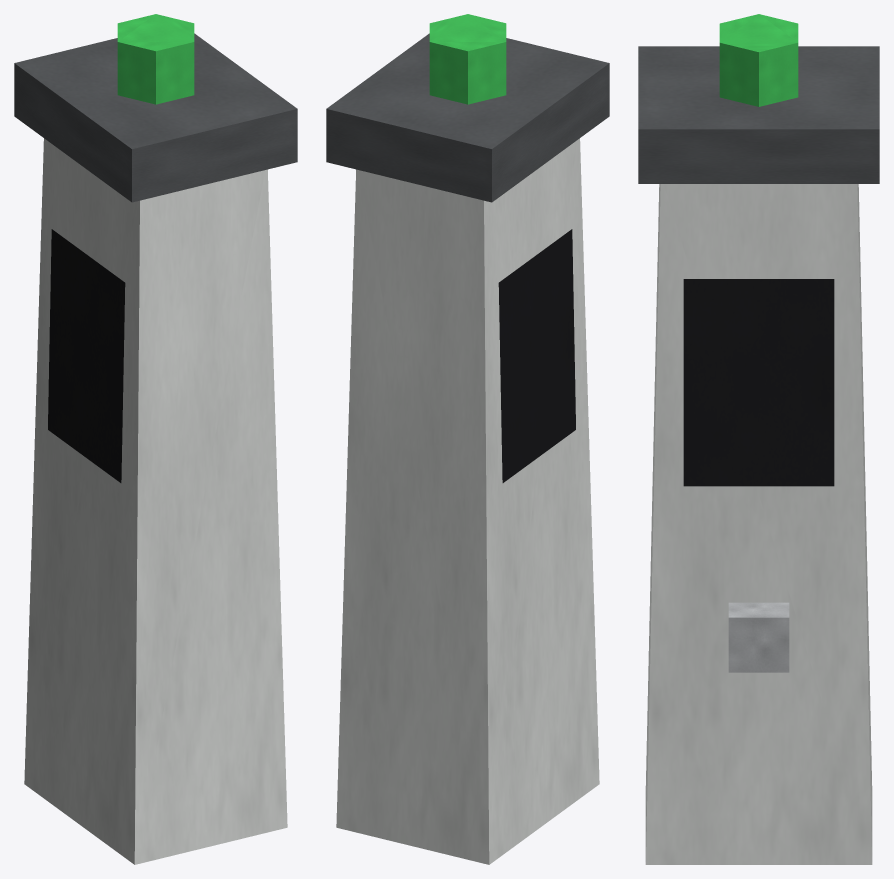
File: SM_Morin_Marina_Colonnina_LOD1.fbx
3 views of the same model, side by side, from view 1: azimuth 30°, elevation 25°; view 2: azimuth 150°, elevation 25°; view 3: azimuth 270°, elevation 25° (orthographic). The views are drawn at different scales.
Visible parts, largest first — view 1: SM_Morin_Marina_Colonnina_LOD1; view 2: SM_Morin_Marina_Colonnina_LOD1; view 3: SM_Morin_Marina_Colonnina_LOD1.
Part boxes in pixels (left/top/right/bottom): SM_Morin_Marina_Colonnina_LOD1: left=14, top=14, right=297, bottom=864; SM_Morin_Marina_Colonnina_LOD1: left=326, top=14, right=609, bottom=864; SM_Morin_Marina_Colonnina_LOD1: left=638, top=14, right=879, bottom=864.
Bounding box in the file's own units: 29 × 32 × 116.
Materials: 1 (1 with a texture image).
